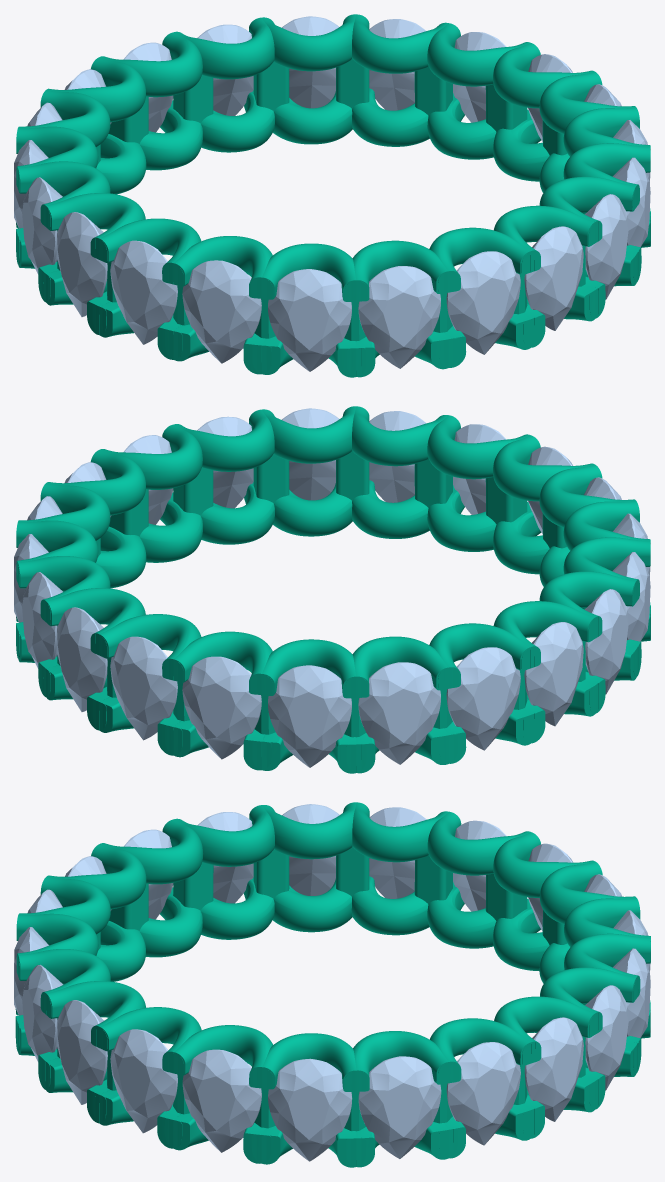
The picture shows the model from 3 angles, top to bottom: view 1: azimuth 30°, elevation 25°; view 2: azimuth 150°, elevation 25°; view 3: azimuth 270°, elevation 25°; orthographic projection.
Parts seen in each view (by area): view 1: DEOP 4MM(base).3dm, Diamond_Pear (×19); view 2: DEOP 4MM(base).3dm, Diamond_Pear (×19); view 3: DEOP 4MM(base).3dm, Diamond_Pear (×19).
Boxes of the visible parts, <box> form: DEOP 4MM(base).3dm: <box>16,14,650,377</box>; Diamond_Pear (×19): <box>14,16,650,371</box>; DEOP 4MM(base).3dm: <box>16,406,650,773</box>; Diamond_Pear (×19): <box>14,408,650,767</box>; DEOP 4MM(base).3dm: <box>15,802,650,1167</box>; Diamond_Pear (×19): <box>14,804,650,1161</box>.
Bounding box in the file's own units: 2.81 × 0.5369 × 2.8.
